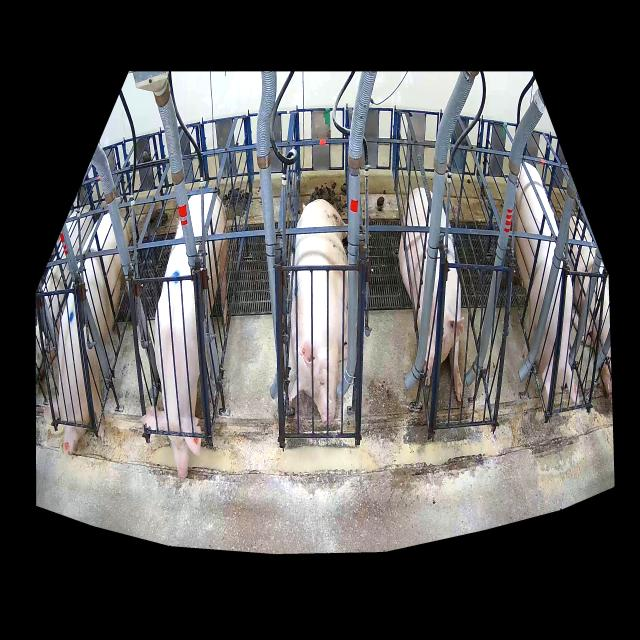pig: (141, 193, 228, 475), (54, 211, 130, 452), (507, 162, 580, 410), (399, 187, 465, 402), (288, 199, 348, 425)
